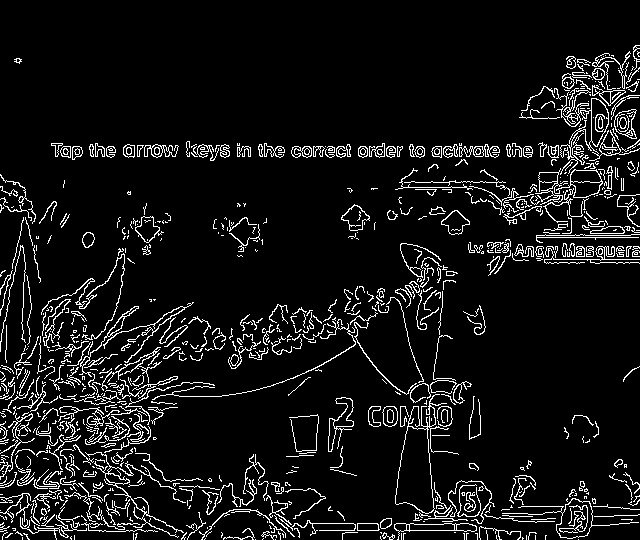down: (128, 210, 167, 250)
left: (223, 210, 266, 251)
up: (336, 197, 373, 240), (437, 204, 475, 244)
